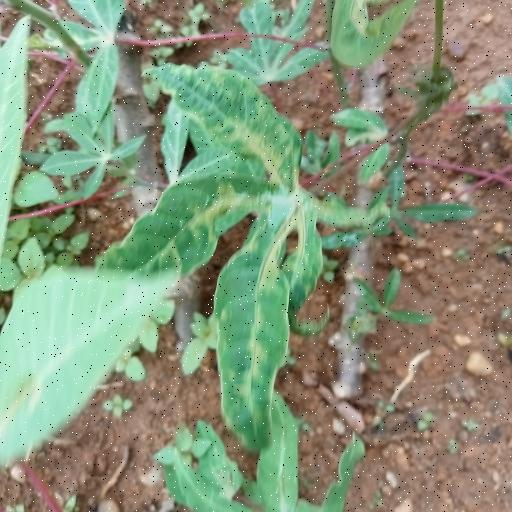Cassava_Mosaic: (116, 61, 320, 451)
